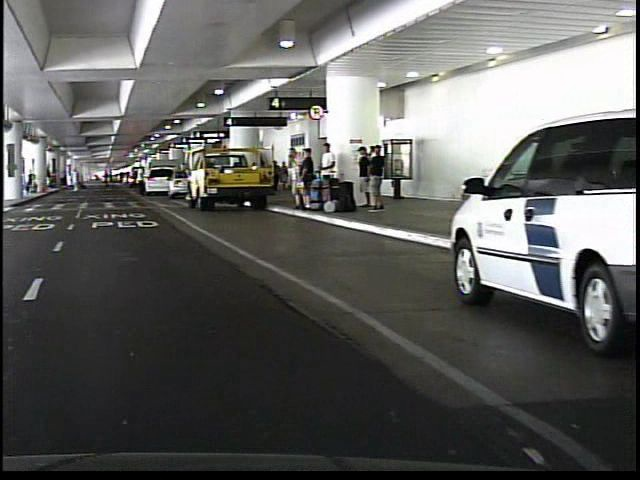person: (365, 144, 383, 215), (282, 145, 300, 207), (65, 162, 80, 196), (131, 166, 142, 197)
